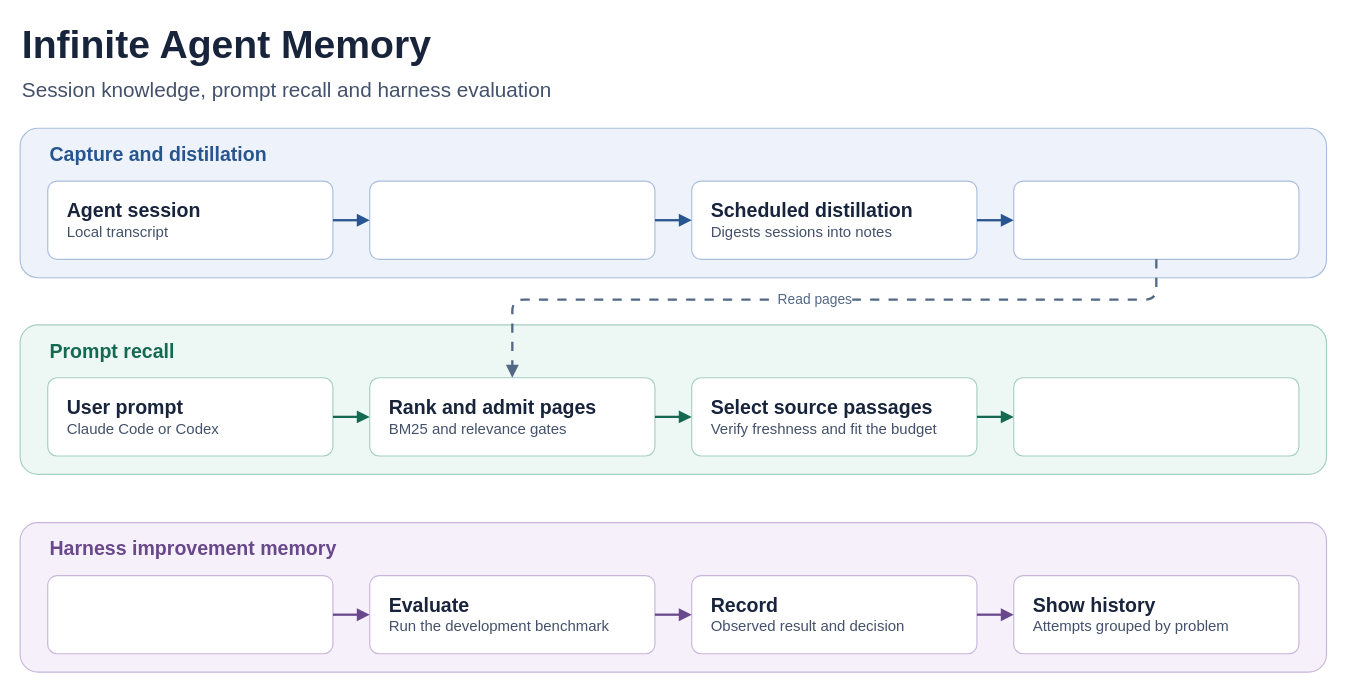
The diagram is 1347 pixels wide and 692 high, and some of its shapes have lost their labels. Here are the shapes that lost their labels. From the top down, the box of each, then its label:
(369, 180, 655, 259): Session capture Queues eligible sessions
(1013, 180, 1299, 259): Markdown memory Entities, concepts and summaries
(1013, 377, 1299, 456): Agent context Evidence and source path
(47, 574, 333, 654): Plan Diagnosis, change and prediction
